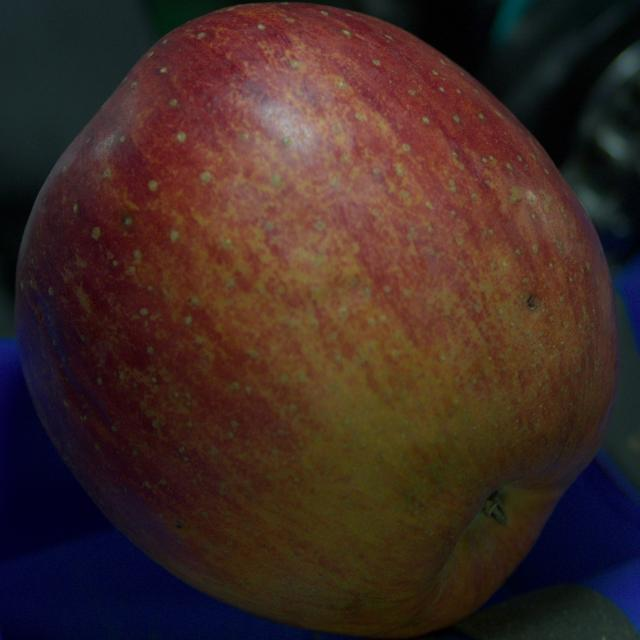apple: (16, 3, 618, 638)
pest: (527, 294, 538, 309), (176, 522, 183, 528)
